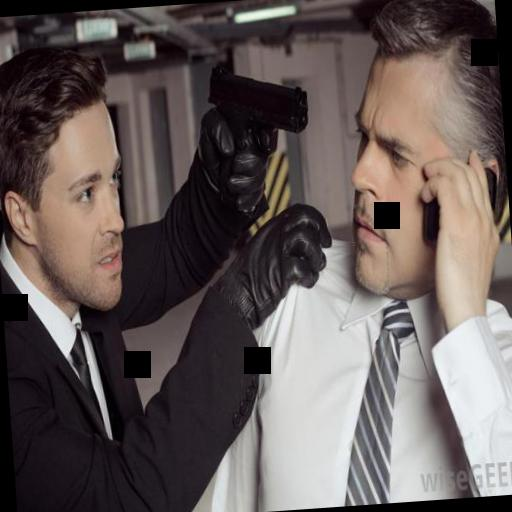Handgun: (196, 54, 314, 228)
